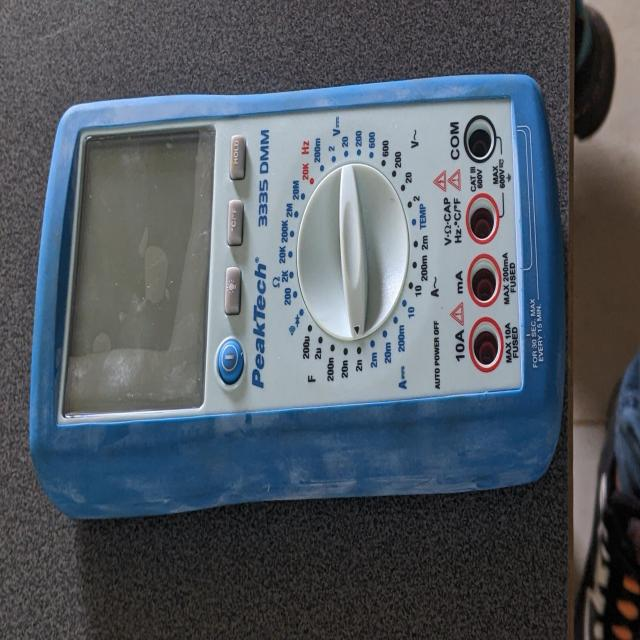Digital Multimeter: (15, 57, 579, 535)
